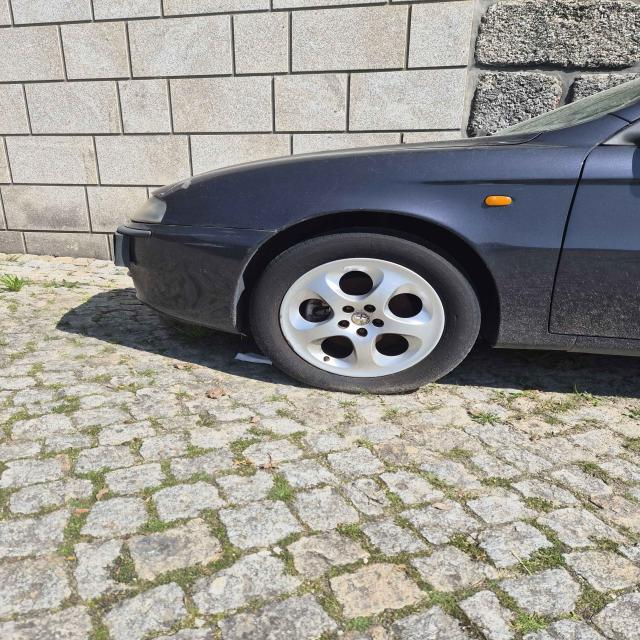jante: (279, 257, 445, 378)
parafuso: (374, 318, 384, 326), (340, 319, 350, 326), (359, 327, 367, 335), (367, 304, 374, 311), (345, 305, 353, 311)
roda: (247, 230, 483, 396)
